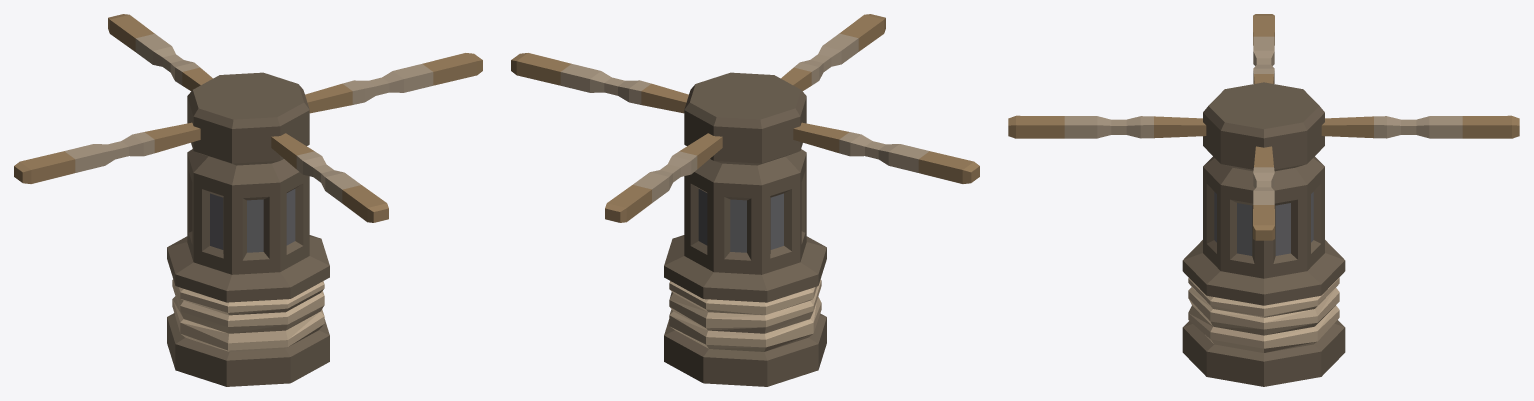
The model's file is SM_Prop_Crank_01.glb.
3 views of the same model, side by side, from view 1: azimuth 30°, elevation 25°; view 2: azimuth 150°, elevation 25°; view 3: azimuth 270°, elevation 25° (orthographic). The views are drawn at different scales.
Parts seen in each view (by area): view 1: SM_Prop_Crank_01_part00; view 2: SM_Prop_Crank_01_part00; view 3: SM_Prop_Crank_01_part00.
Boxes of the visible parts, left/top/right/bottom form: SM_Prop_Crank_01_part00: left=14, top=14, right=482, bottom=386; SM_Prop_Crank_01_part00: left=511, top=14, right=979, bottom=386; SM_Prop_Crank_01_part00: left=1008, top=14, right=1519, bottom=386.
Size of the model in its own units: 2.29 by 1.22 by 2.29.
1 material, 1 textured.
